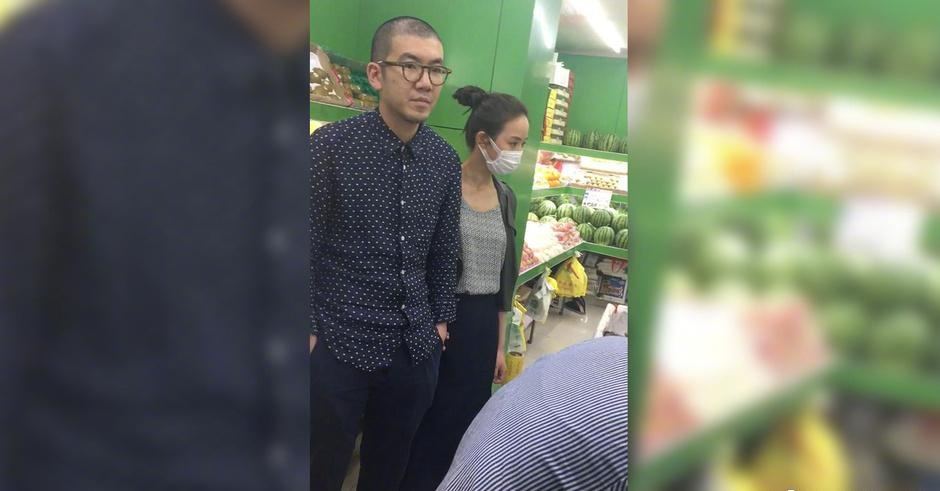Mask: (492, 131, 537, 176)
